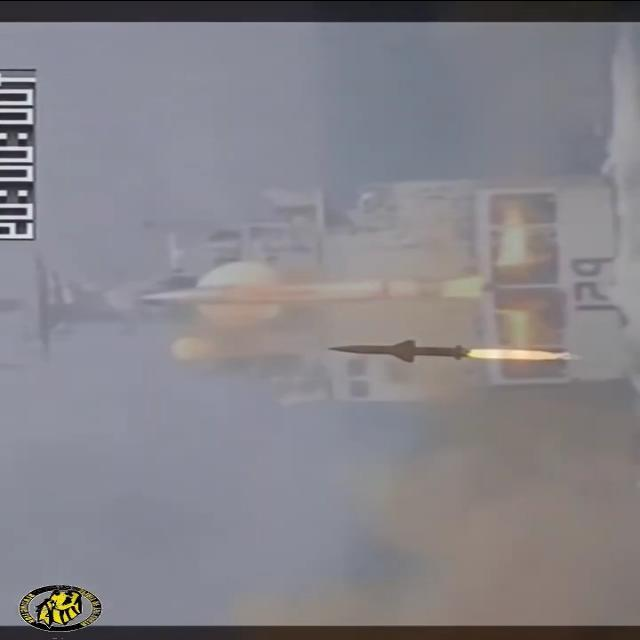Missile: (318, 330, 472, 364)
